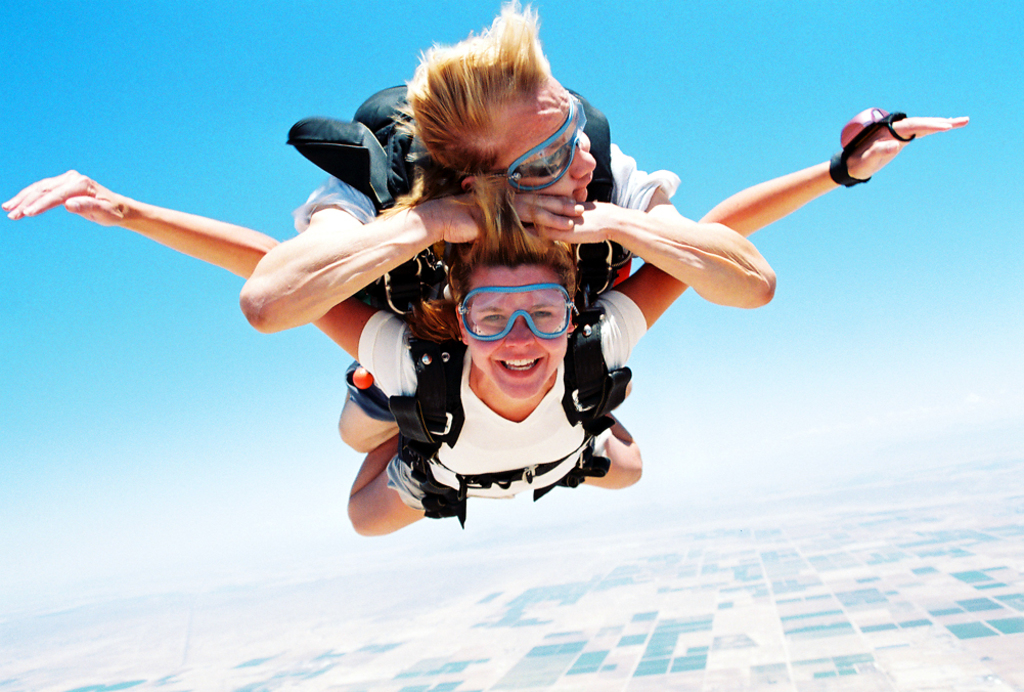Person: (2, 107, 968, 537), (237, 0, 778, 335)
